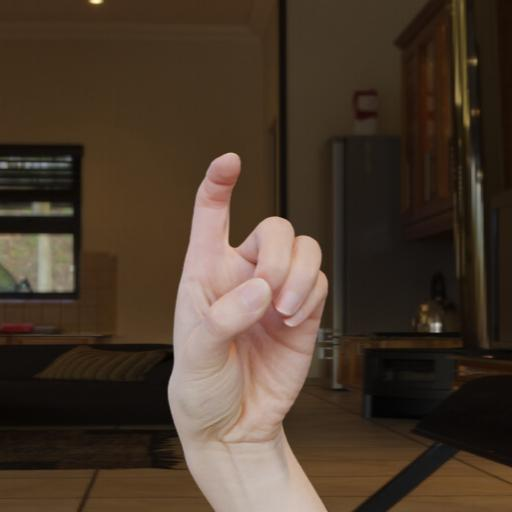X: (158, 147, 338, 465)
